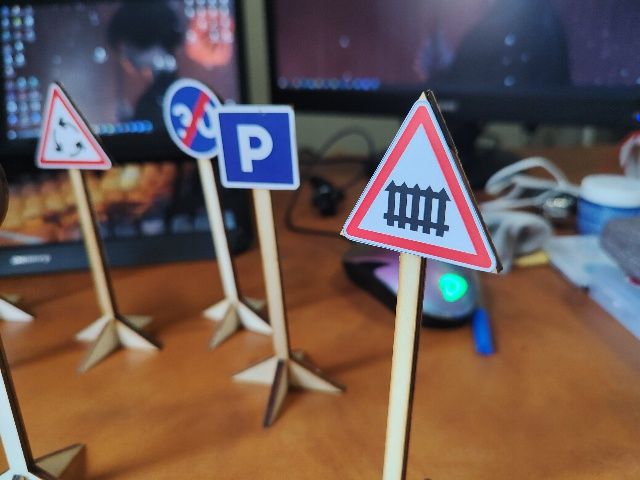P: (214, 101, 301, 191)
ban: (162, 75, 222, 157)
cycle: (31, 81, 111, 169)
train: (341, 89, 498, 270)
